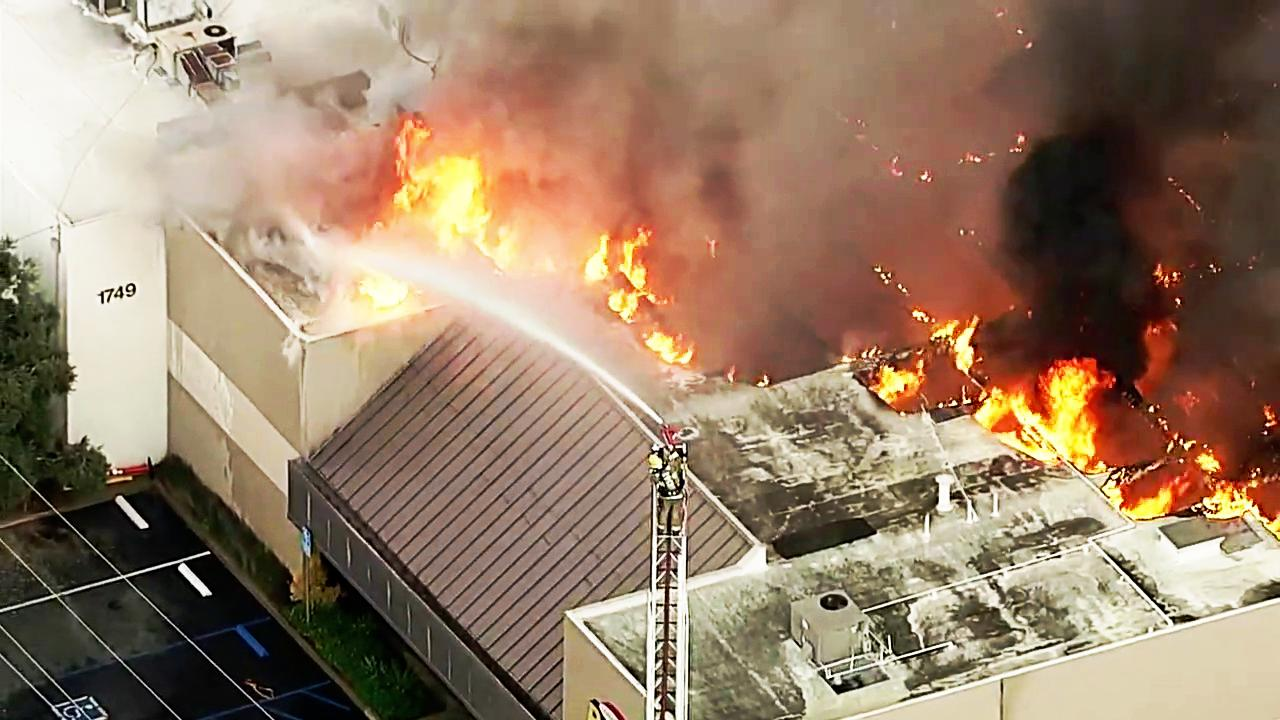fire: (379, 129, 493, 256)
smoke: (623, 0, 1107, 168)
